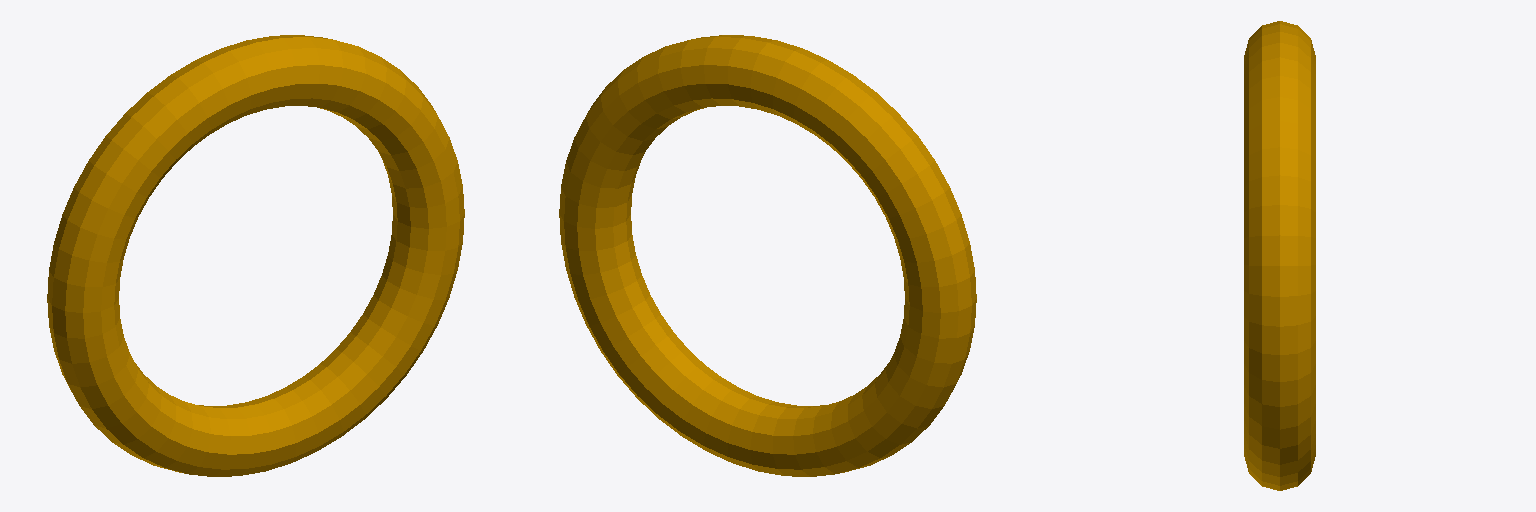
File: Ring.obj
3 views of the same model, side by side, from view 1: azimuth 30°, elevation 25°; view 2: azimuth 150°, elevation 25°; view 3: azimuth 270°, elevation 25° (orthographic).
Visible parts, largest first — view 1: Torus; view 2: Torus; view 3: Torus.
Part boxes in pixels (bbox=[...]): Torus: bbox=[47, 35, 464, 476]; Torus: bbox=[559, 35, 976, 476]; Torus: bbox=[1244, 21, 1315, 490].
Bounding box in the file's own units: 1.18 × 1.18 × 0.18.